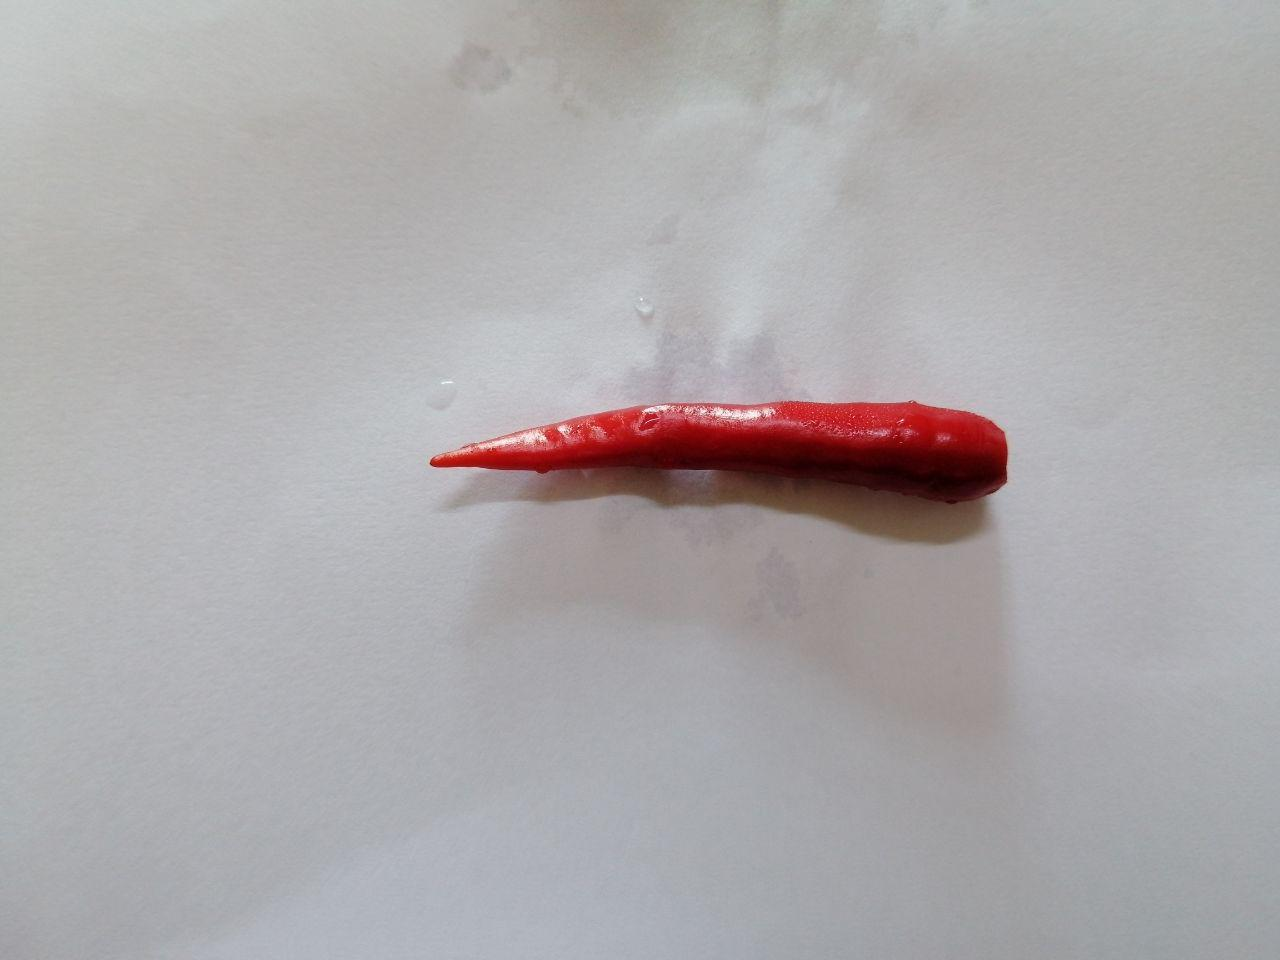lada merah: (416, 378, 1030, 542)
